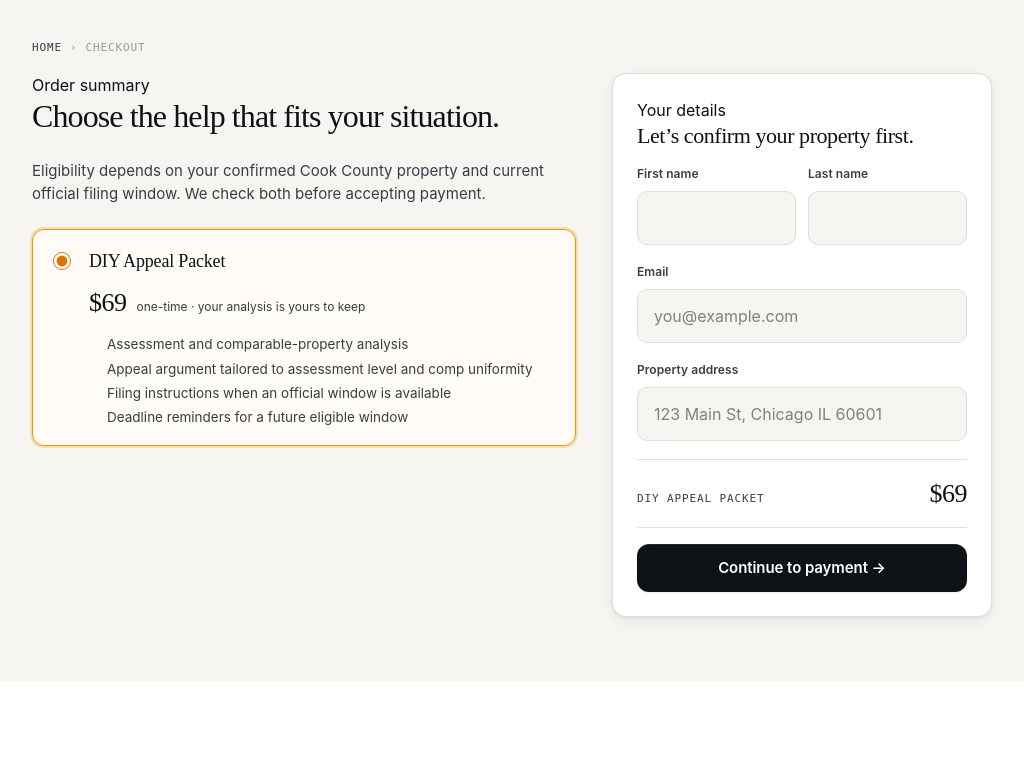
checkout_blocked from the real checkout page › a throwing analytics transport does not hide a gate
Type "Buyer" into the field labelled "First name" at coordinates (716, 218), box [637,191,796,245]
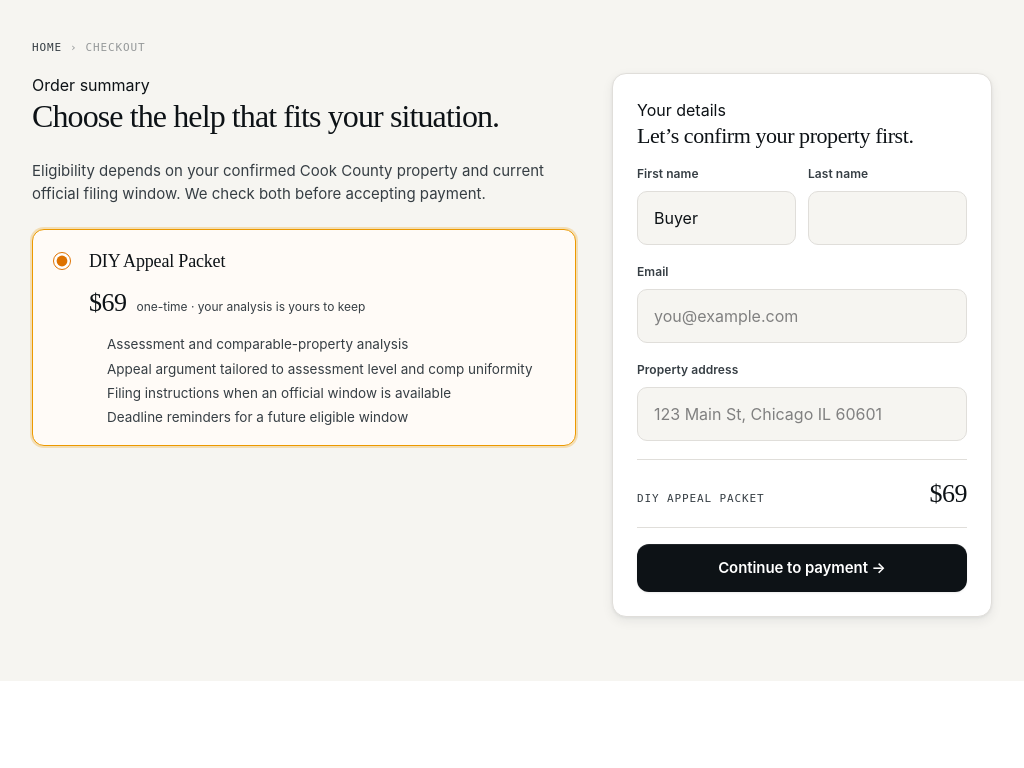
Type "Example" into the field labelled "Last name" at coordinates (888, 218), box [808,191,967,245]
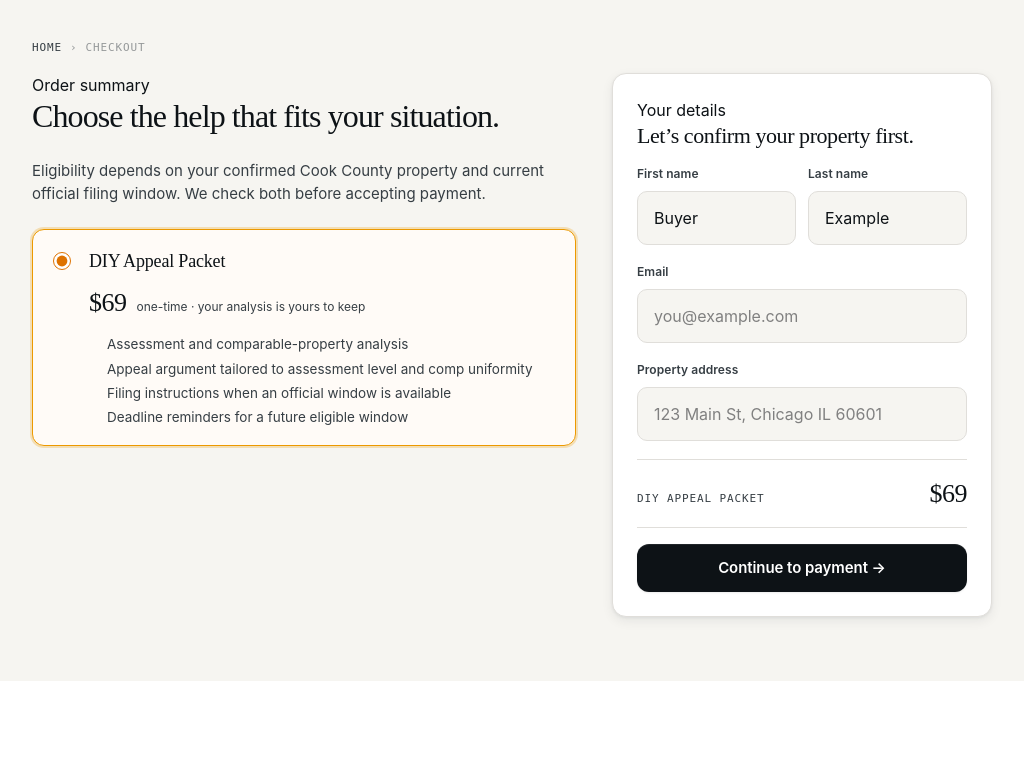
Type "buyer@example.com" into the field labelled "Email" at coordinates (802, 316), box [637,289,967,343]
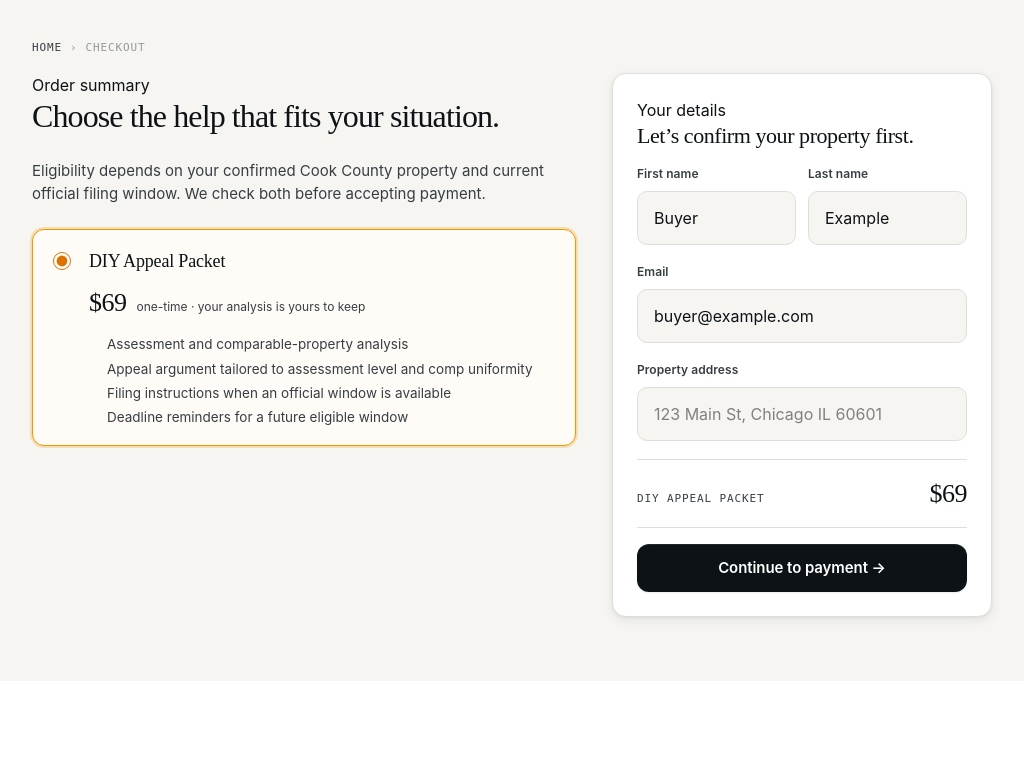
Type "2834 W Henderson St, Chicago IL 60618" into the field labelled "Property address" at coordinates (802, 414), box [637,387,967,441]
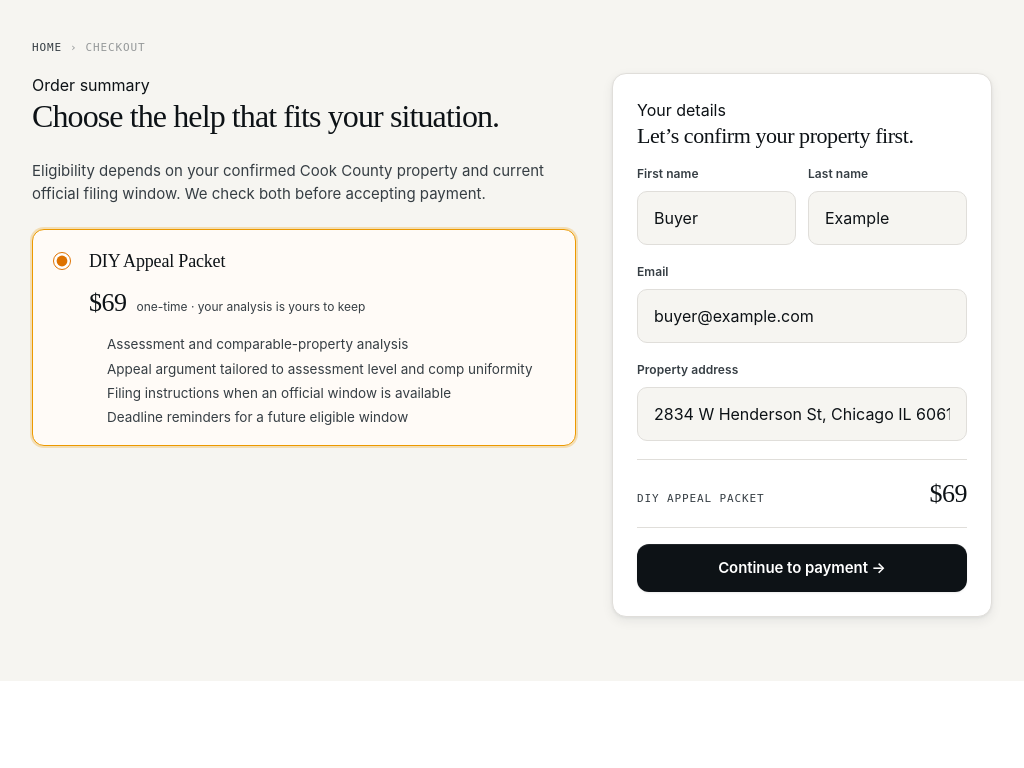
Click the button "Continue to payment →" at coordinates (802, 568), box [637,544,967,592]
(page scrolled)
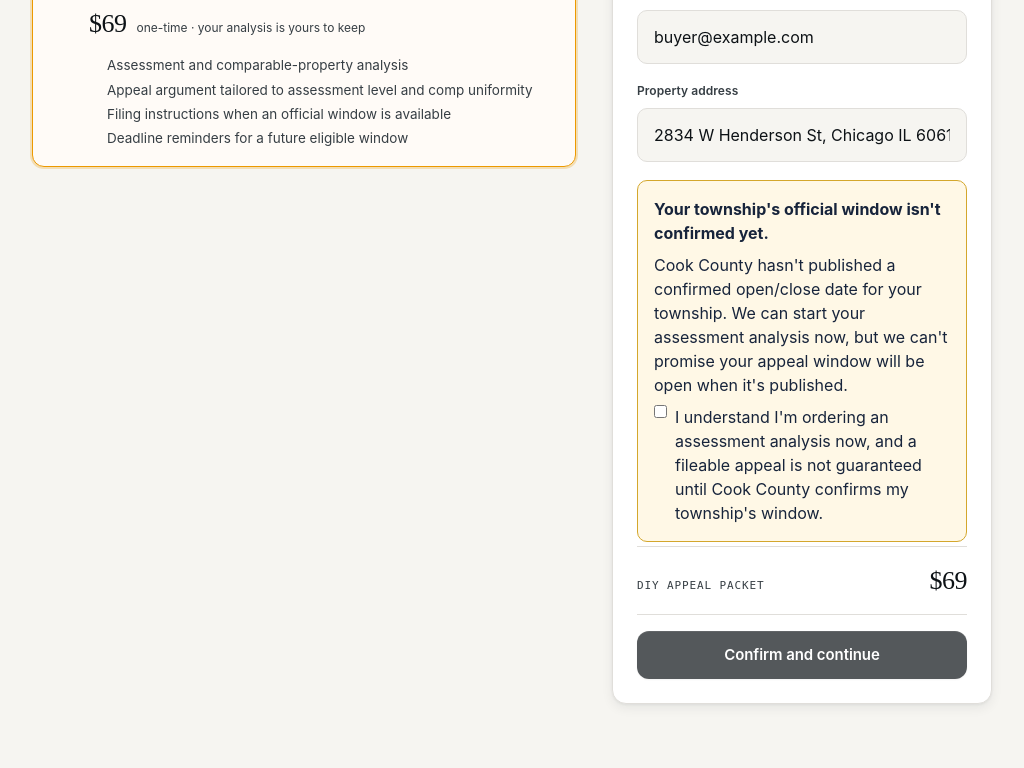
Now the text "ordering an assessment analysis now" is shown, box [675,407,922,523]
